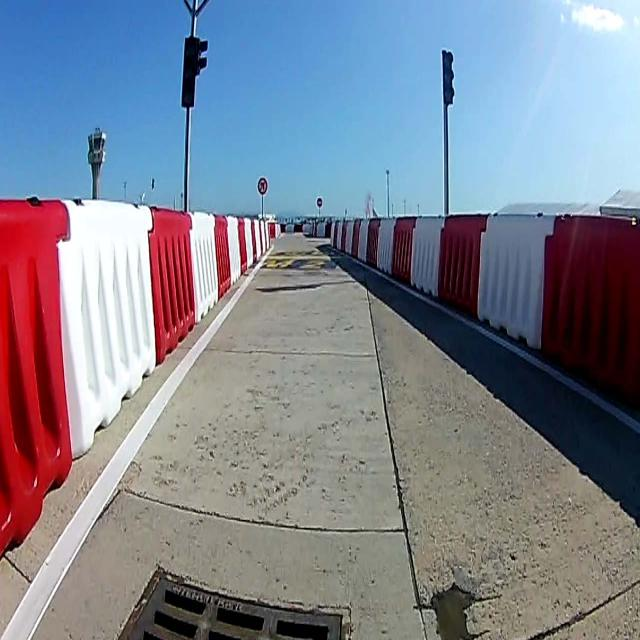soladonulmez: (256, 176, 269, 196)
